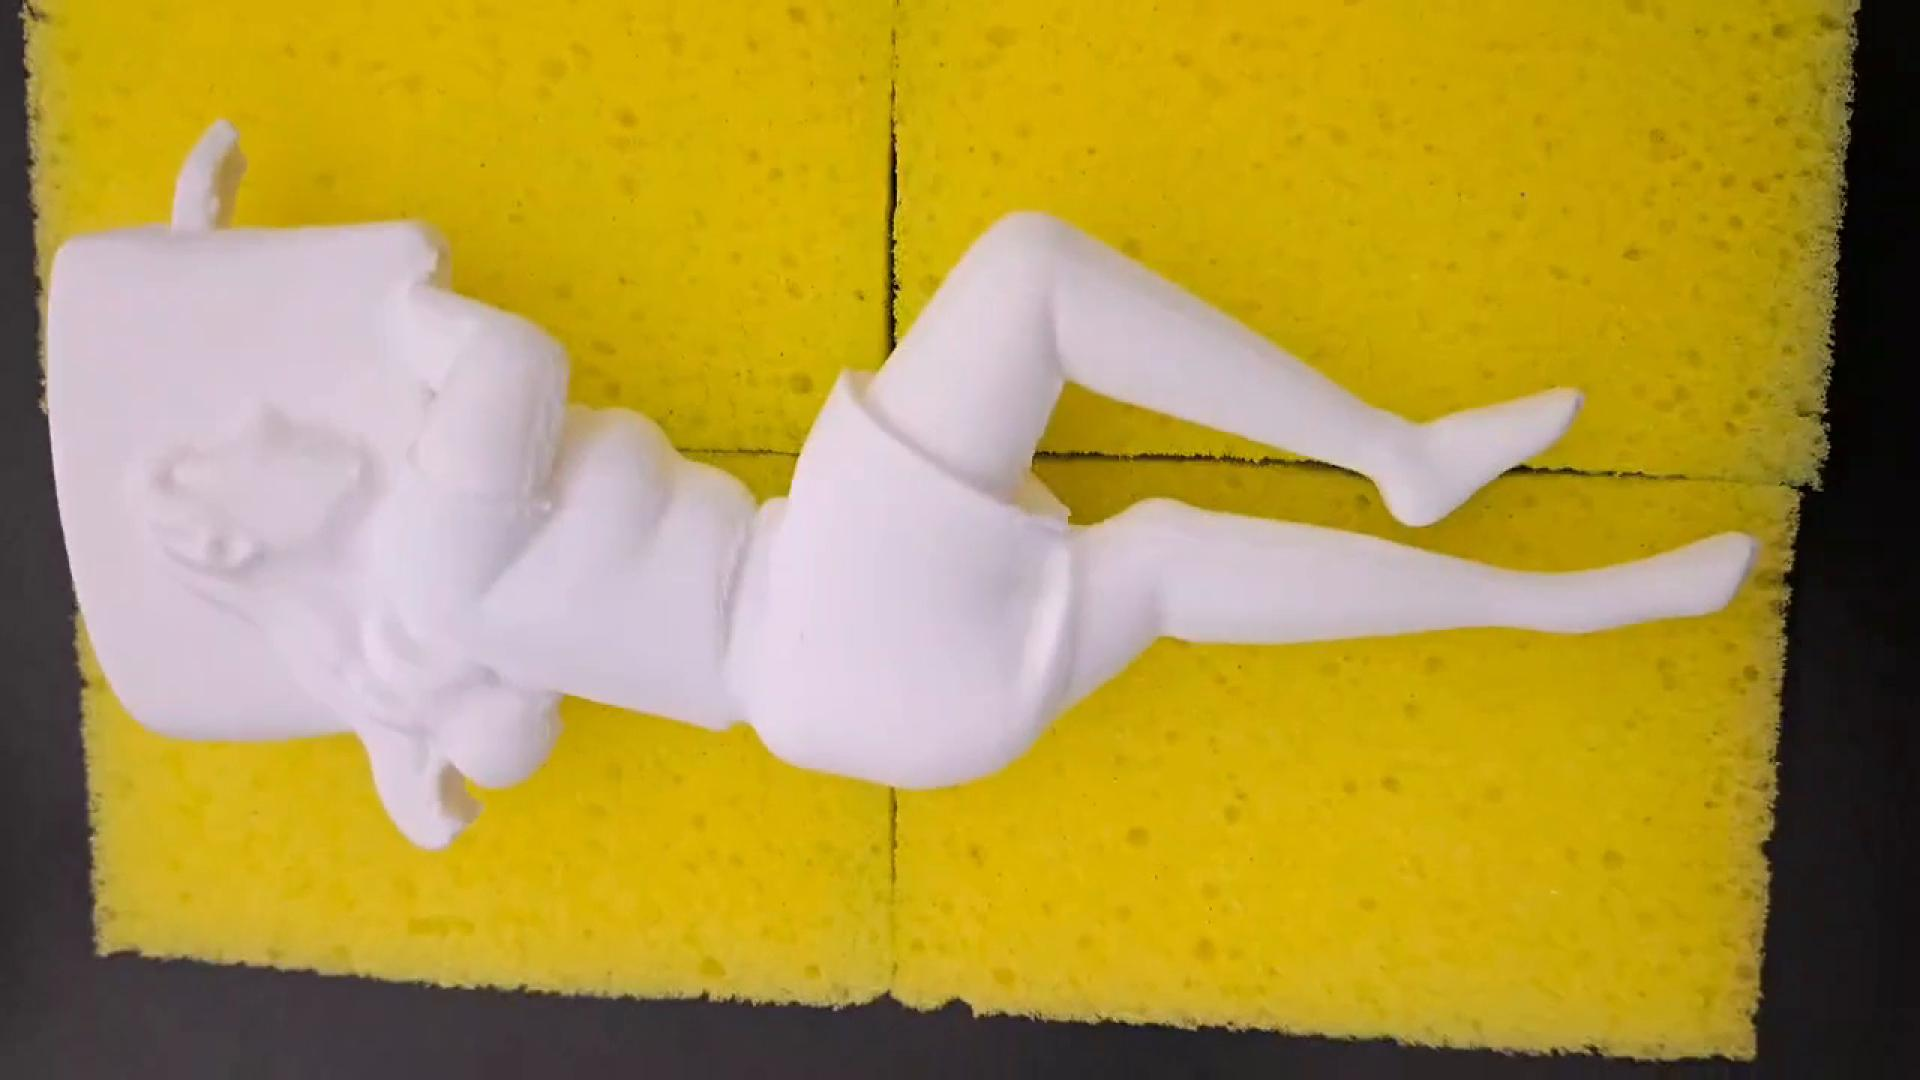Good-style: (45, 124, 1756, 852)
